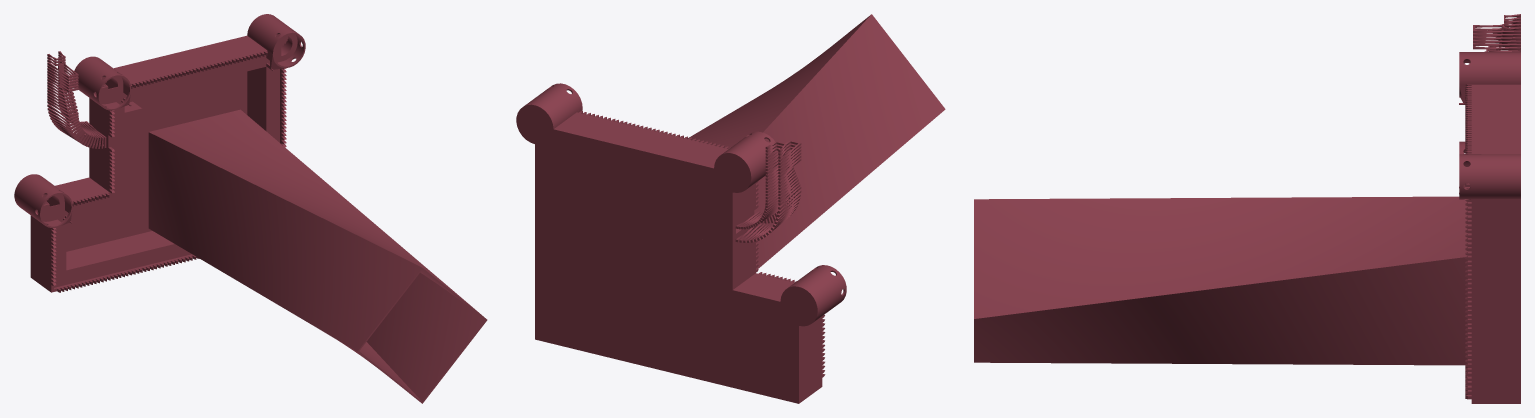
The model's file is PillarTwo032817.fbx.
3 renders of one model, left to right at view 1: azimuth 30°, elevation 25°; view 2: azimuth 150°, elevation 25°; view 3: azimuth 270°, elevation 25°, orthographic. The views are drawn at different scales.
Parts seen in each view (by area): view 1: Mesh; view 2: Mesh; view 3: Mesh.
Part boxes in pixels (bbox=[...]): Mesh: bbox=[14, 14, 487, 403]; Mesh: bbox=[516, 14, 945, 403]; Mesh: bbox=[974, 14, 1520, 403].
Size of the model in its own units: 202 by 159 by 300.
